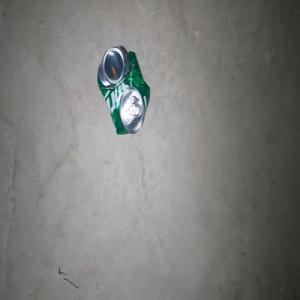SodaCan: (97, 44, 149, 135)
